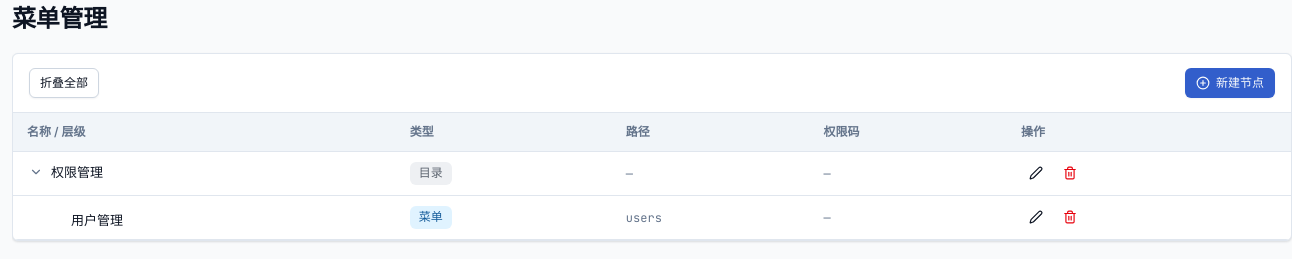
it: SysMenuPage 七态 › 树可折叠：收起父节点后隐藏子节点
Expected: the text "用户管理" is shown, [71, 212, 123, 228]
点击父节点的折叠开关后，子节点隐藏
Click the button named "折叠" at (36, 172), box [27, 163, 45, 181]
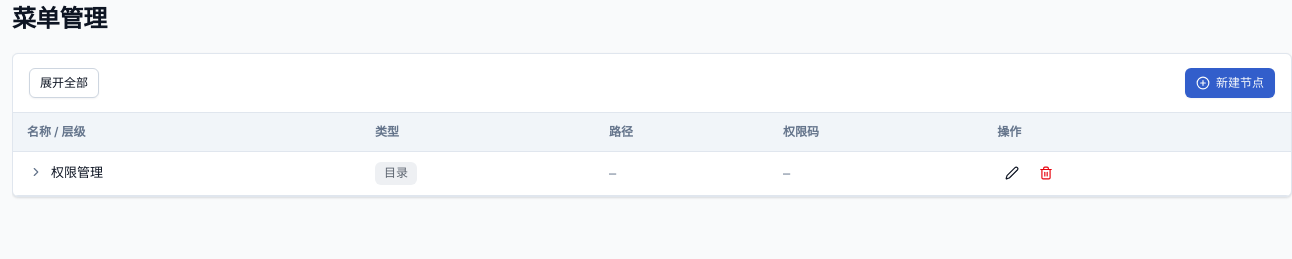
Result: the text "用户管理" is gone
